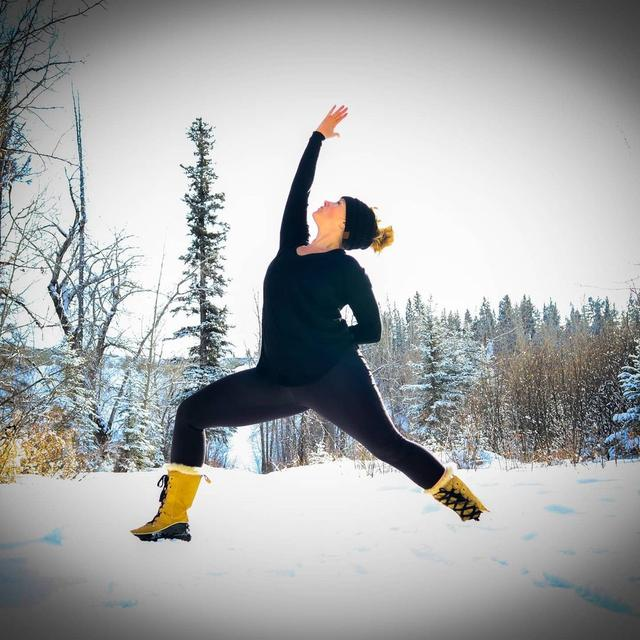Warrior_I: (131, 98, 489, 546)
